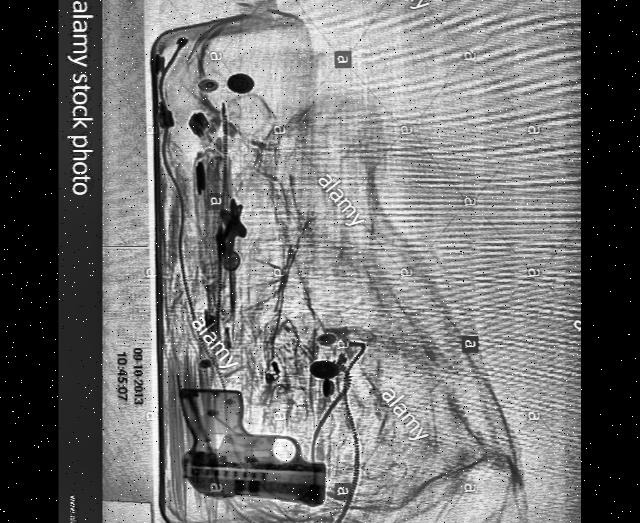Gun: (176, 385, 328, 506)
